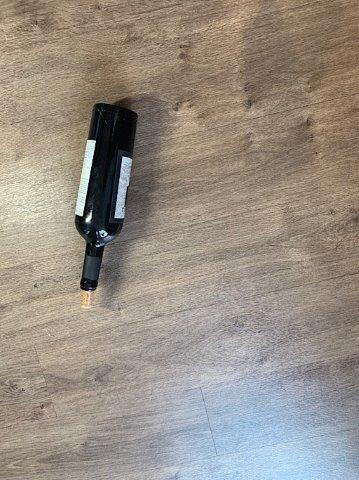botolkaca: (75, 104, 137, 307)
